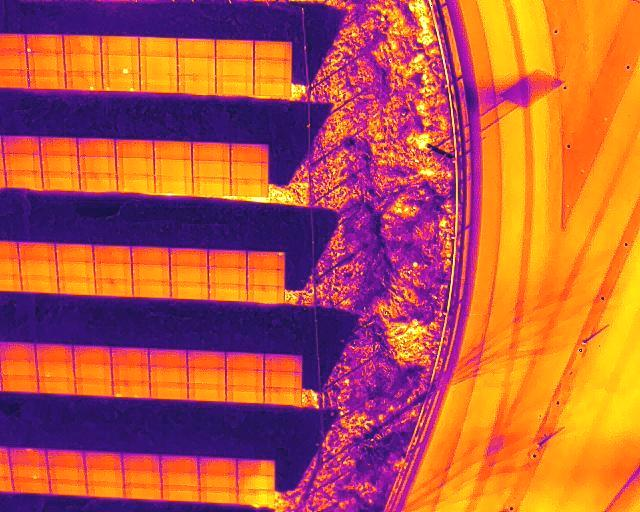Cell: (102, 54, 140, 74), (65, 72, 102, 91), (26, 34, 64, 52), (247, 251, 285, 269), (36, 362, 74, 376), (11, 466, 49, 480)
Cell-Multi: (102, 75, 140, 92), (113, 381, 150, 398)
No-Anomaly: (139, 37, 177, 57), (178, 38, 216, 58), (254, 41, 292, 61), (216, 39, 254, 58), (78, 156, 116, 175), (192, 142, 229, 161), (209, 250, 248, 268), (153, 141, 192, 159), (116, 158, 155, 176), (94, 245, 132, 263), (188, 383, 226, 401), (101, 36, 139, 54), (192, 160, 230, 178), (40, 137, 78, 155), (30, 70, 66, 89), (140, 58, 178, 76), (230, 145, 268, 163), (154, 159, 192, 177), (216, 77, 254, 95), (65, 35, 102, 53), (5, 171, 42, 189), (65, 54, 102, 72), (178, 76, 215, 94), (35, 346, 73, 363), (247, 286, 285, 303), (95, 279, 133, 296), (170, 266, 208, 283), (131, 246, 169, 263), (170, 249, 208, 266), (0, 376, 38, 393), (116, 141, 154, 158), (215, 59, 253, 76), (20, 243, 57, 260), (56, 244, 93, 261), (247, 269, 284, 286), (86, 453, 123, 470), (264, 356, 301, 373), (78, 139, 115, 156), (254, 79, 291, 96), (254, 61, 291, 78), (178, 59, 215, 76), (28, 53, 65, 70), (2, 136, 39, 153), (41, 155, 78, 172), (22, 276, 58, 293), (231, 179, 267, 196), (43, 173, 79, 190), (57, 261, 95, 277), (74, 348, 112, 364), (75, 379, 113, 395), (200, 458, 238, 474), (226, 354, 264, 370), (209, 284, 247, 300), (149, 350, 187, 366), (9, 450, 47, 466), (79, 175, 117, 191), (0, 344, 35, 361), (133, 264, 170, 280), (38, 377, 75, 393), (75, 364, 112, 380), (21, 260, 58, 276), (95, 263, 132, 279), (58, 278, 95, 294), (150, 381, 187, 397), (171, 283, 208, 299), (264, 389, 301, 405), (112, 349, 149, 365), (140, 76, 177, 92), (236, 475, 275, 490), (193, 179, 229, 195), (4, 154, 40, 170), (188, 368, 226, 383), (47, 451, 85, 466), (226, 370, 264, 385), (208, 268, 246, 283), (226, 386, 264, 401), (49, 467, 87, 482), (161, 456, 199, 471), (155, 178, 193, 193), (200, 488, 238, 503), (231, 163, 269, 178), (117, 177, 155, 192), (188, 353, 225, 368), (112, 365, 149, 380), (238, 459, 275, 474), (150, 367, 187, 382), (133, 281, 170, 296), (264, 373, 301, 388), (162, 486, 199, 501), (124, 456, 160, 471), (162, 472, 200, 486), (87, 469, 125, 483), (88, 484, 126, 498), (0, 69, 29, 87), (12, 480, 52, 493), (0, 362, 37, 376), (125, 471, 162, 485), (124, 486, 162, 499), (0, 52, 27, 70), (238, 491, 274, 504), (52, 482, 88, 495), (0, 35, 26, 52), (201, 475, 237, 487)
